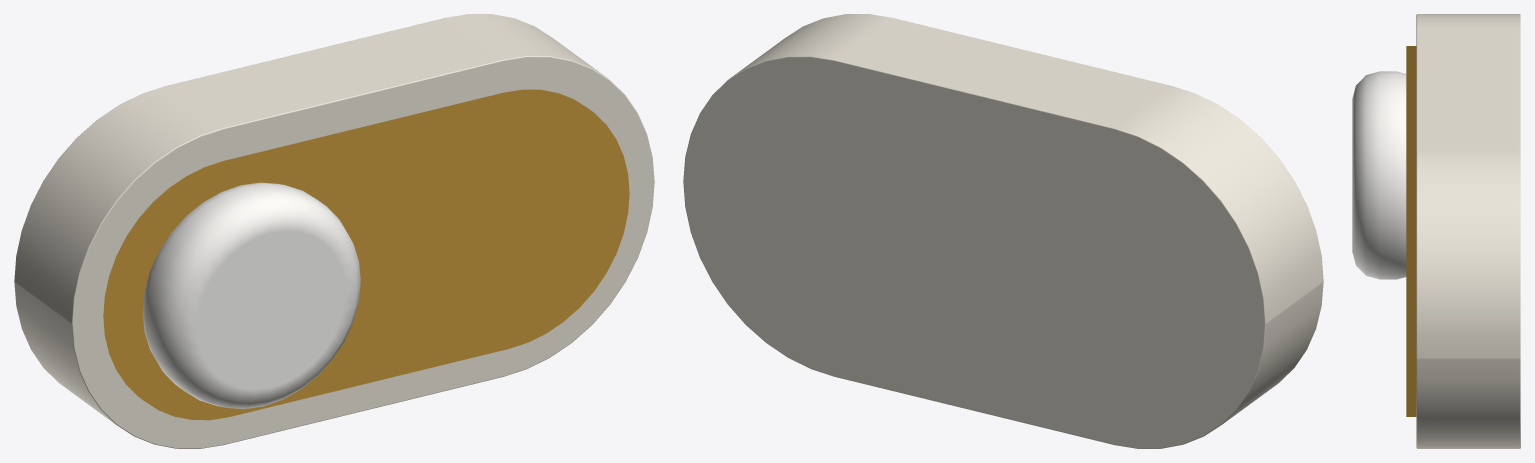
The model's file is ui_toggle.glb.
3 renders of one model, left to right at view 1: azimuth 30°, elevation 25°; view 2: azimuth 150°, elevation 25°; view 3: azimuth 270°, elevation 25°, orthographic. The views are drawn at different scales.
Parts seen in each view (by area): view 1: ui_toggle, knob; view 2: ui_toggle; view 3: ui_toggle, knob.
Part boxes in pixels (left/top/right/bottom): ui_toggle: left=14, top=14, right=654, bottom=448; knob: left=142, top=182, right=360, bottom=409; ui_toggle: left=683, top=14, right=1323, bottom=448; ui_toggle: left=1406, top=14, right=1520, bottom=448; knob: left=1352, top=71, right=1406, bottom=279.
Size of the model in its own units: 1.5 by 0.78 by 0.42.
